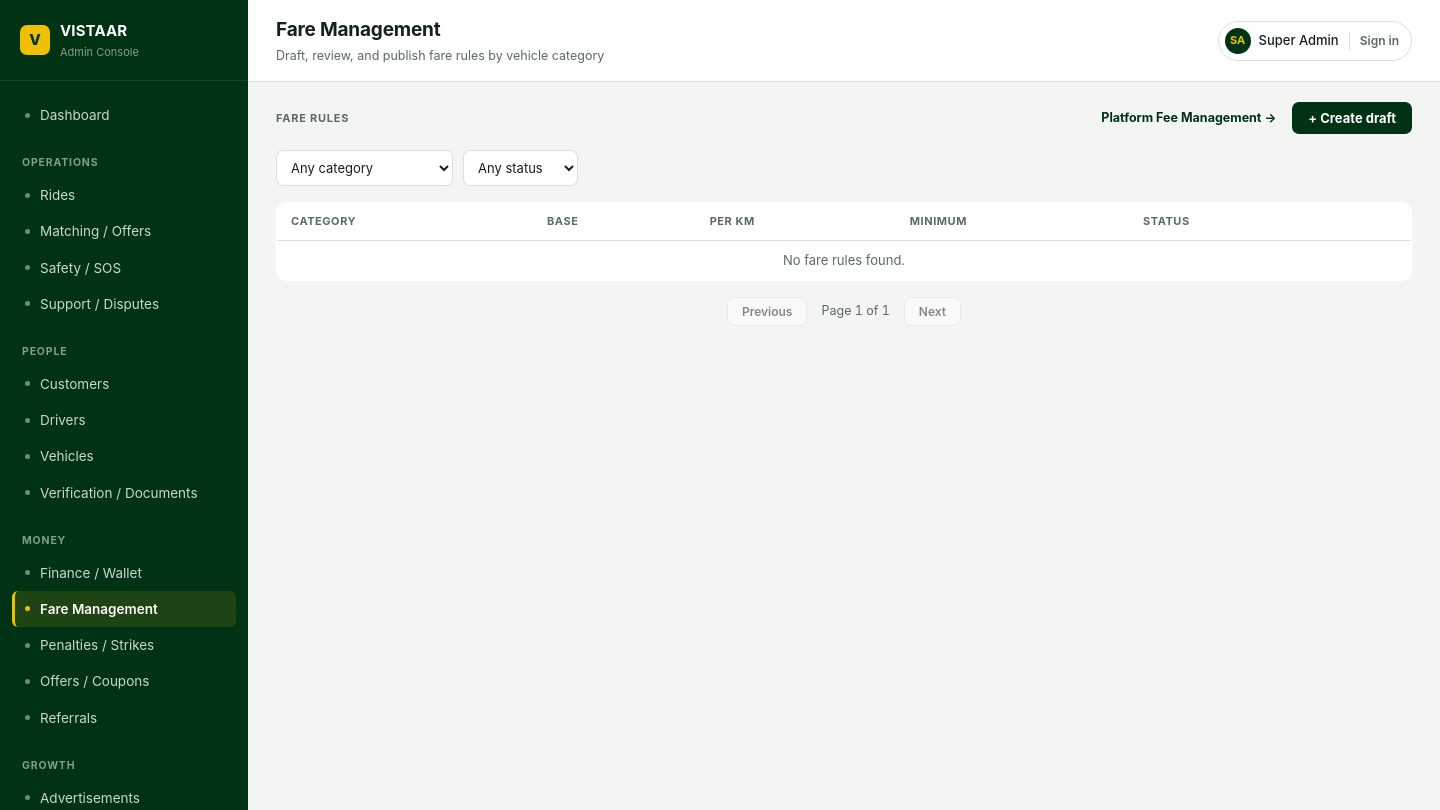
Scenario: FareRulesPage › creates a draft fare rule and refreshes the list
Expected: the text "No fare rules found." is shown, [276,240,1412,281]
Step 1. Click the button "+ Create draft" → (1352,118), box [1292,102,1412,134]
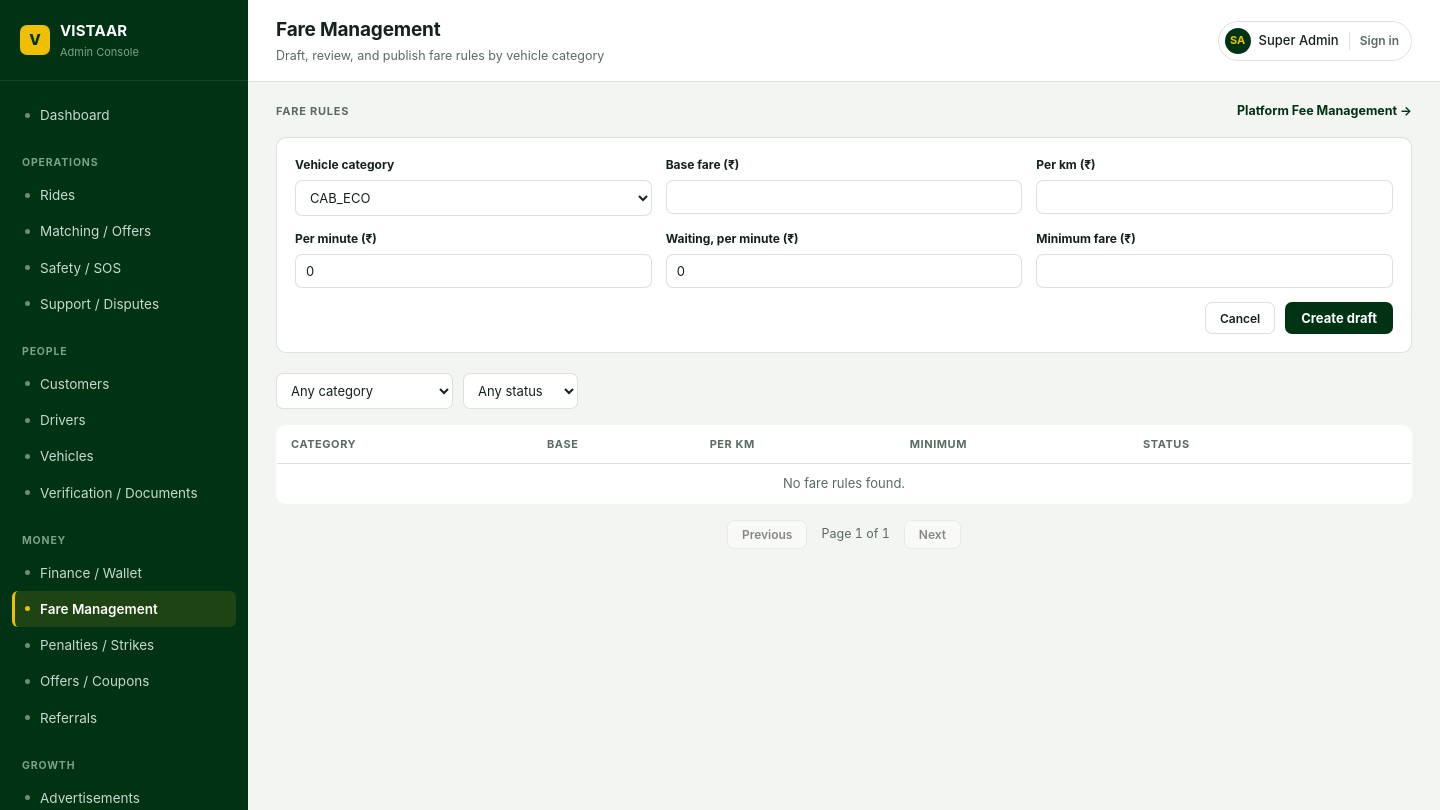
Step 2. Type "55" into the number field labelled "Base fare (₹)" → (844,197), box [666,180,1022,214]
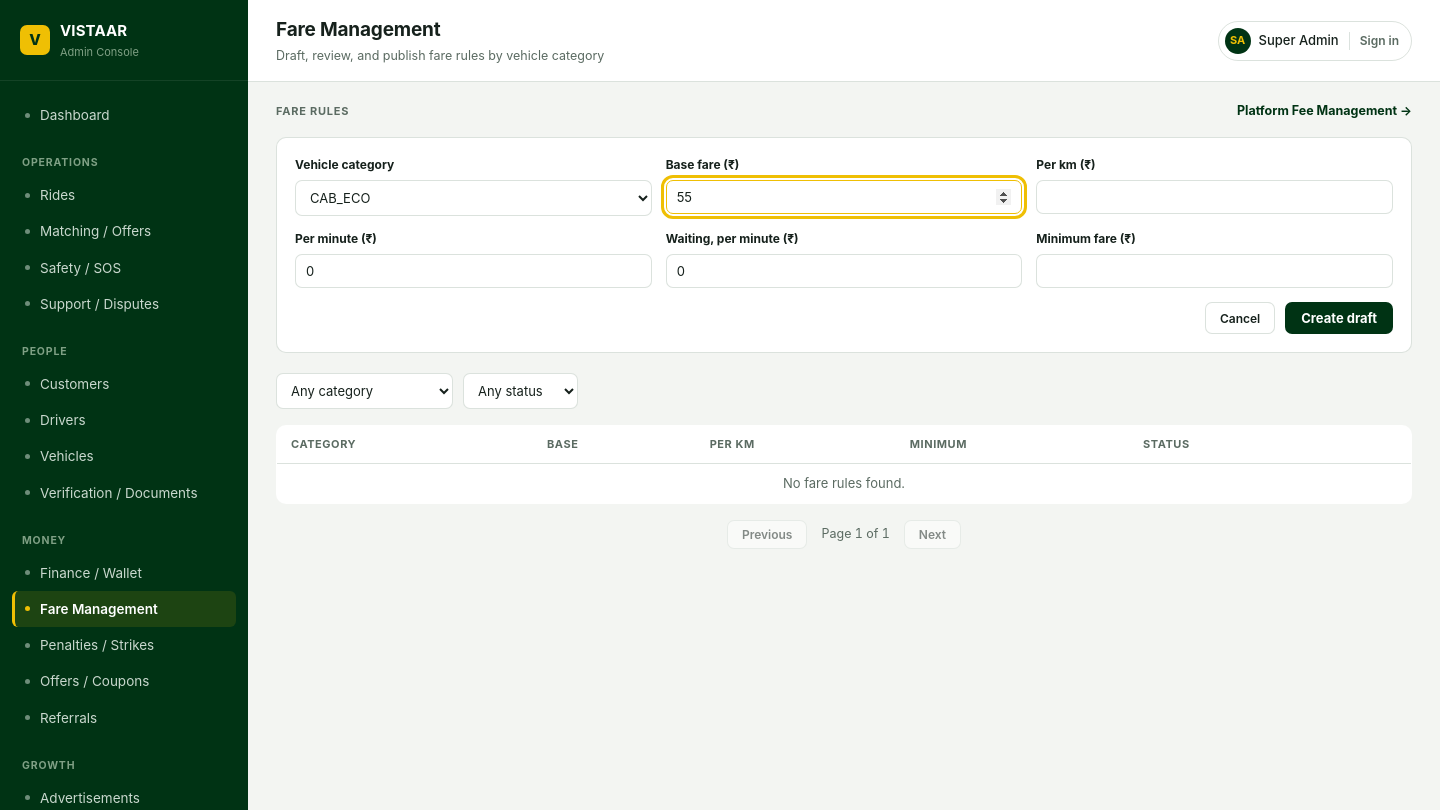
Step 3. Type "12" into the number field labelled "Per km (₹)" → (1215,197), box [1036,180,1393,214]
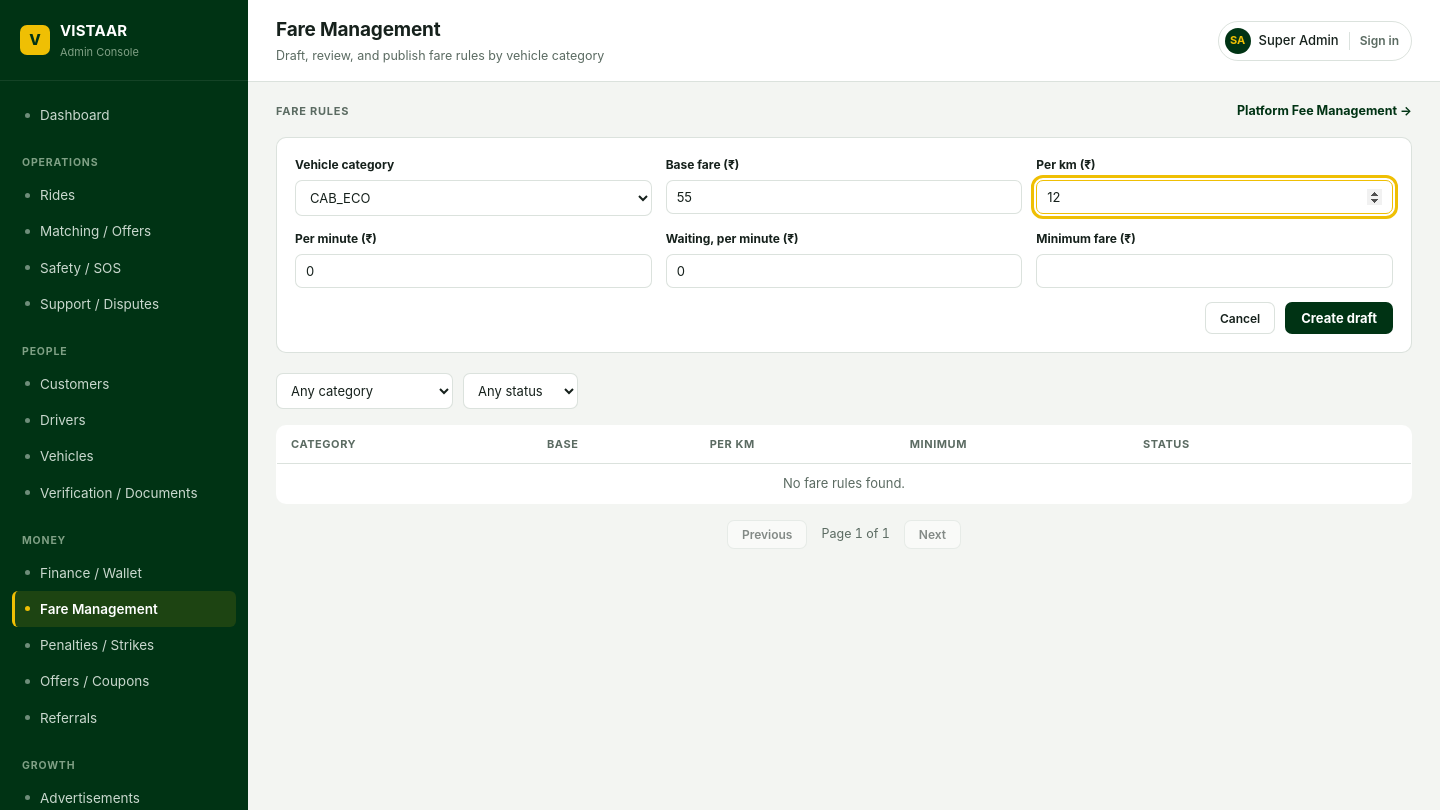
Step 4. Type "79" into the number field labelled "Minimum fare (₹)" → (1215,271), box [1036,254,1393,288]
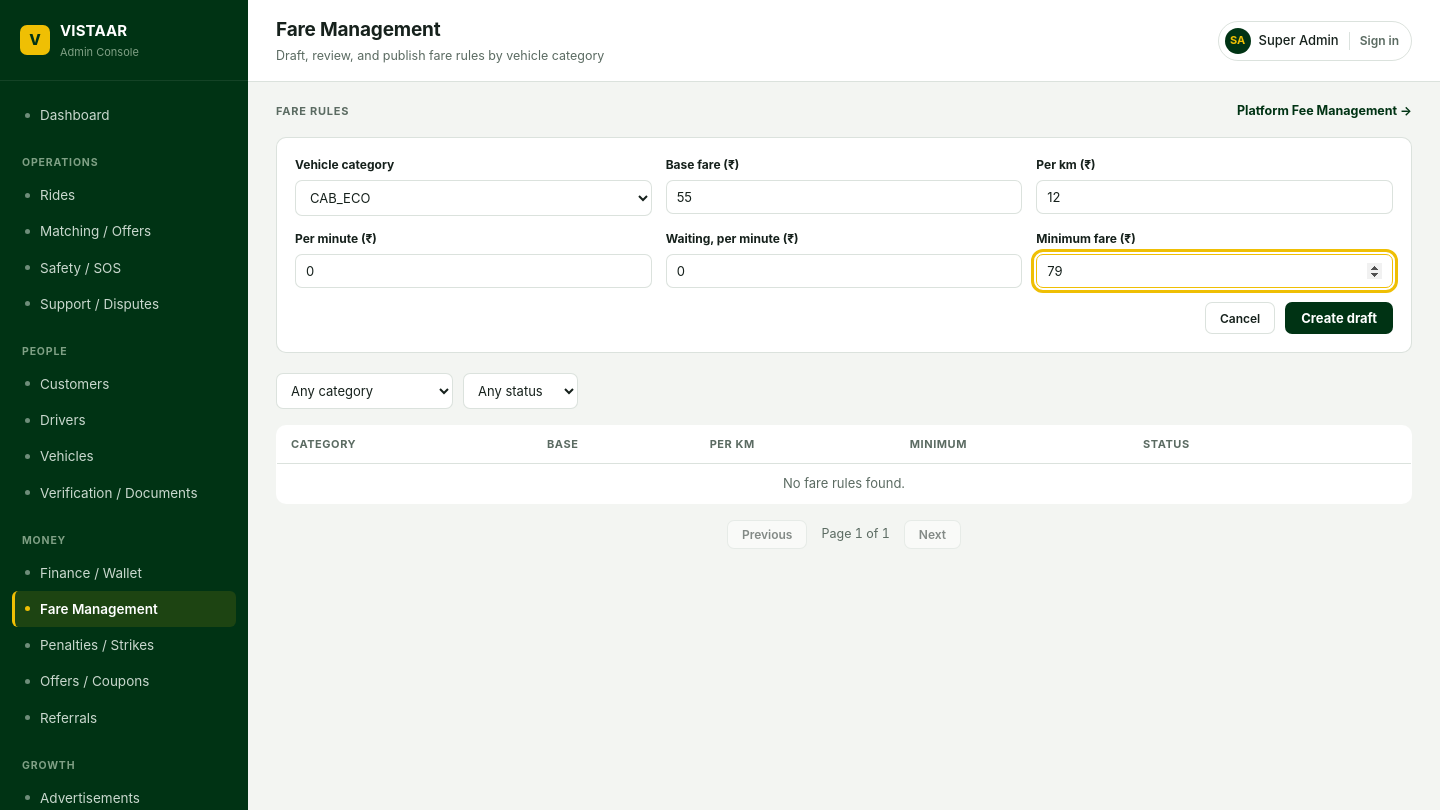
Step 5. Click the button "Create draft" → (1339,318), box [1285,302,1393,334]
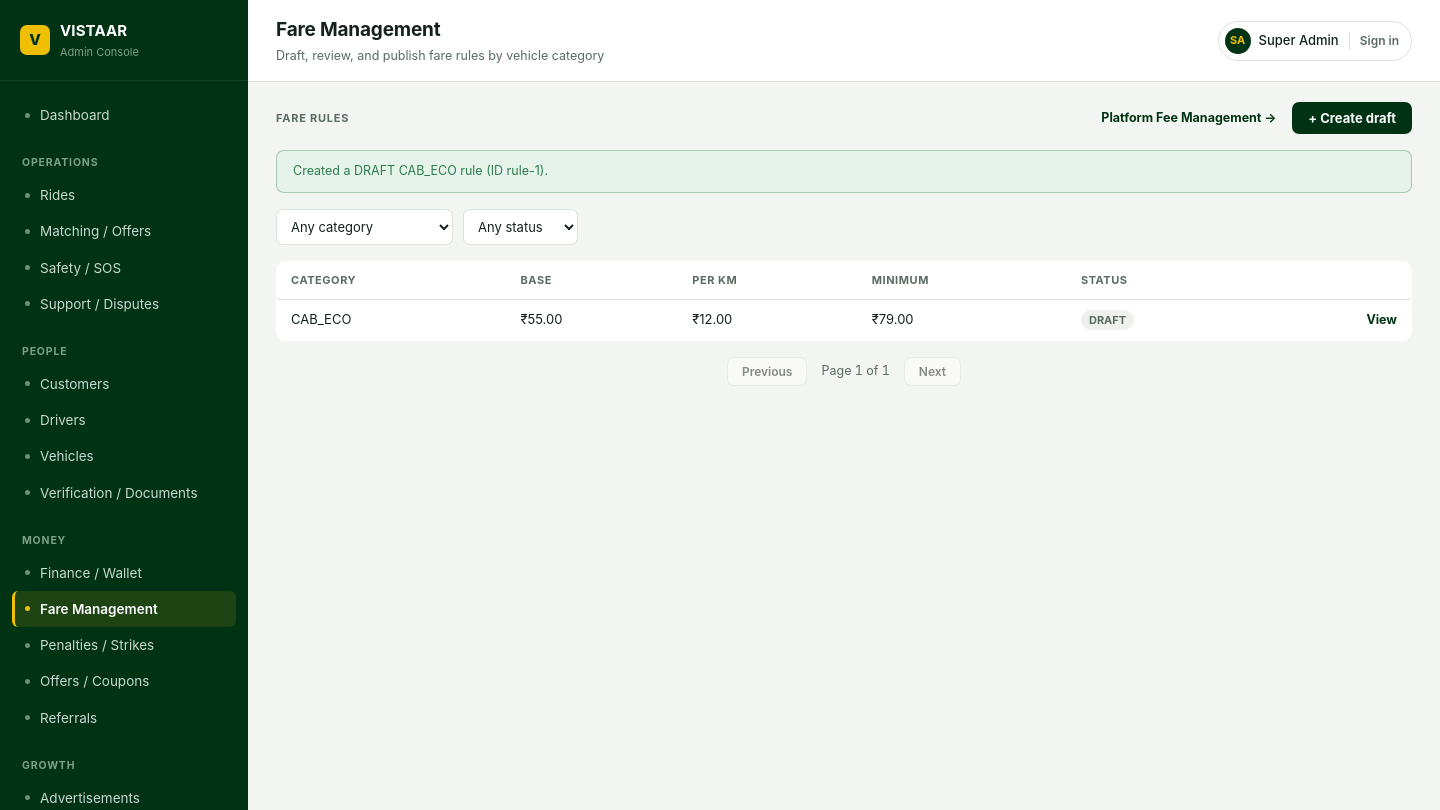
Result: the text "Created a DRAFT CAB_ECO rule (ID rule-1)." is shown at [276,150,1412,193]
